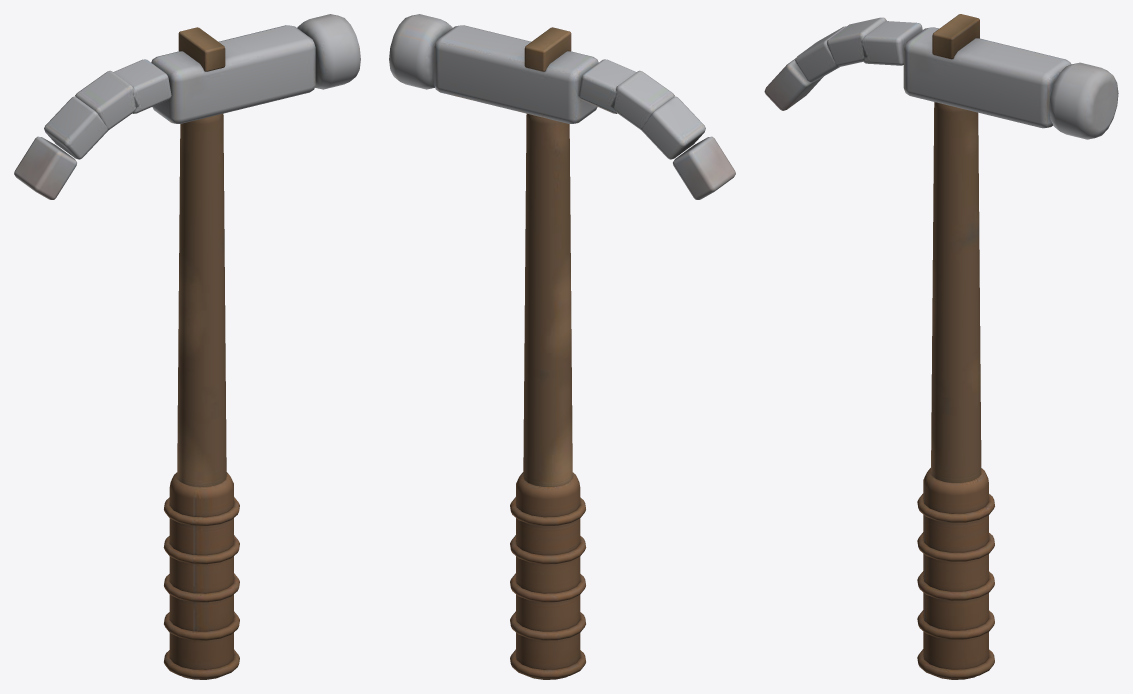
Rendered from hammer.glb.
3 views of the same model, side by side, from view 1: azimuth 30°, elevation 25°; view 2: azimuth 150°, elevation 25°; view 3: azimuth 330°, elevation 25° (orthographic). The views are drawn at different scales.
Visible parts, largest first — view 1: Hammer; view 2: Hammer; view 3: Hammer.
Boxes of the visible parts, x1,y1,x2,y2 form: Hammer: (14,14,360,679); Hammer: (389,14,735,679); Hammer: (764,14,1118,679).
Bounding box in the file's own units: 0.3105 × 0.58 × 0.064.
Materials: 4 (4 with a texture image).
